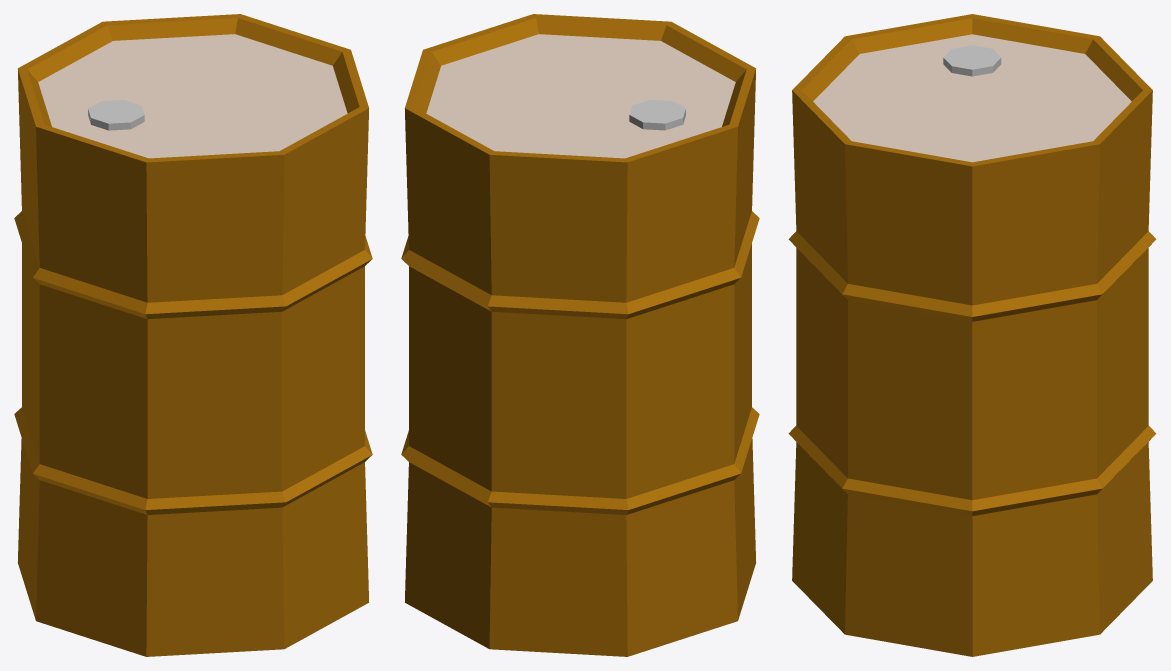
Rendered from barrel.FBX.
The picture shows the model from 3 angles, left to right: view 1: azimuth 30°, elevation 25°; view 2: azimuth 150°, elevation 25°; view 3: azimuth 270°, elevation 25°; orthographic projection.
Parts seen in each view (by area): view 1: barrel; view 2: barrel; view 3: barrel.
Part boxes in pixels (x1,y1,x2,y2): barrel: (14, 14, 372, 656); barrel: (401, 14, 759, 656); barrel: (788, 14, 1156, 656).
Bounding box in the file's own units: 10.2 × 15 × 10.2.
